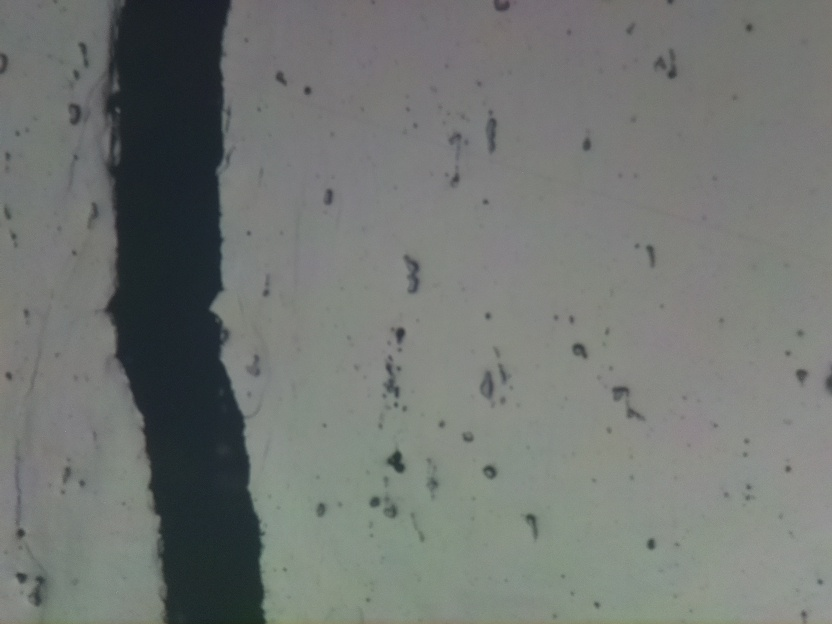crack: (113, 0, 273, 621)
